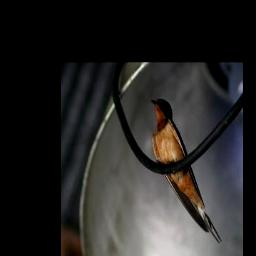Swallow: (148, 94, 225, 245)
